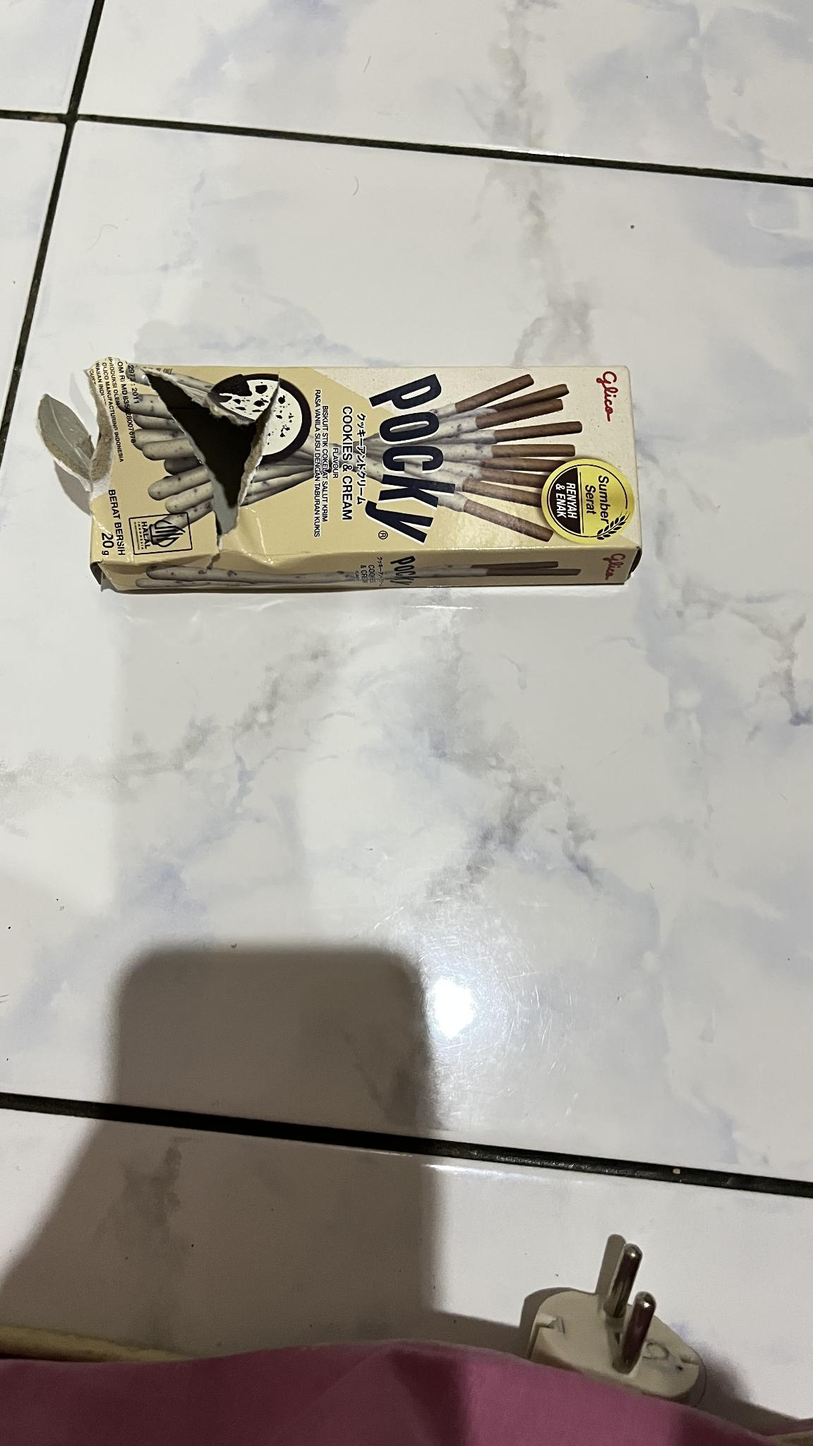Kertas: (97, 362, 638, 556)
